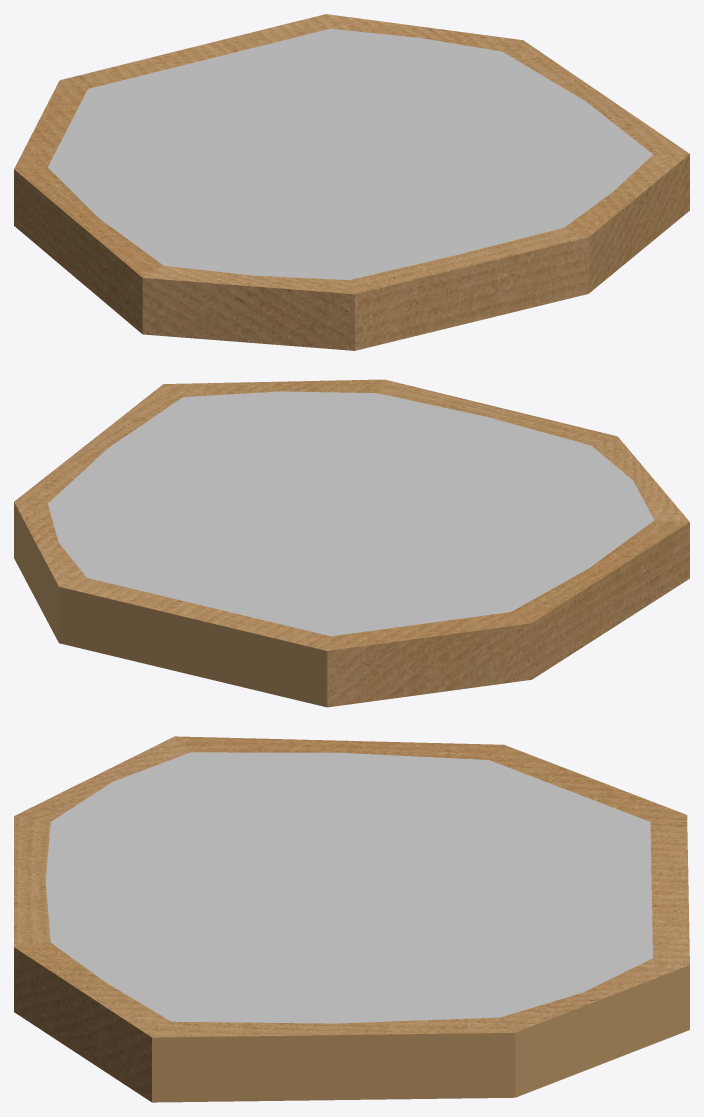
File: IngredientMedallion.glb
3 views of the same model, one above another, from view 1: azimuth 30°, elevation 25°; view 2: azimuth 150°, elevation 25°; view 3: azimuth 270°, elevation 25° (orthographic). The views are drawn at different scales.
Parts seen in each view (by area): view 1: Plane; view 2: Plane; view 3: Plane.
Part boxes in pixels (box(x1,y1,x2,y2)): Plane: box(14, 14, 689, 350); Plane: box(14, 379, 689, 707); Plane: box(14, 736, 689, 1102).
Bounding box in the file's own units: 4.26 × 0.4561 × 4.04.
Materials: 2 (1 with a texture image).
